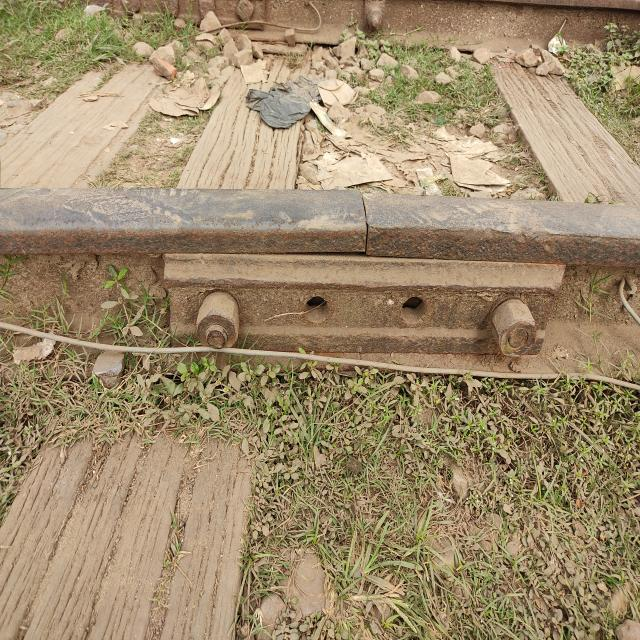Faults: (284, 284, 338, 333), (394, 290, 442, 337)
